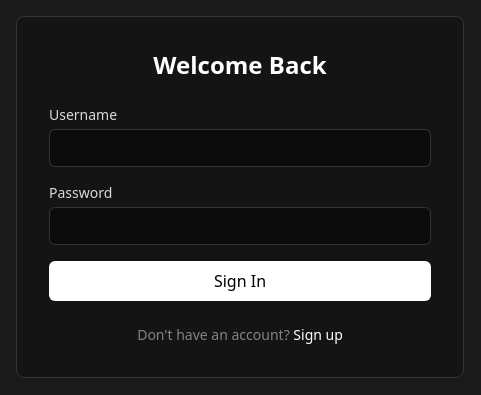
Test: TestLoginPage › switches to register mode when "Sign up" is clicked
The width and height of the screenshot is (481, 395).
# Click the "Sign up" button
What coordinates should you click on to do the following:
click the button "Sign up"
I would click on:
 (318, 335)
Its box is [293,325,343,345].
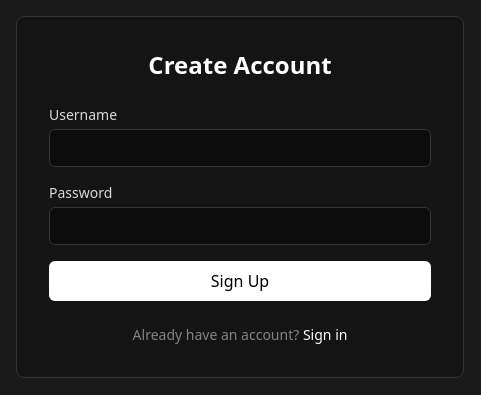
Check: the heading "Create Account" is shown, box [148,48,332,81]
Check: the button "Sign Up" is shown, box [49,261,431,301]
Check: the text "Already have an account?" is shown, box [133,325,299,344]
